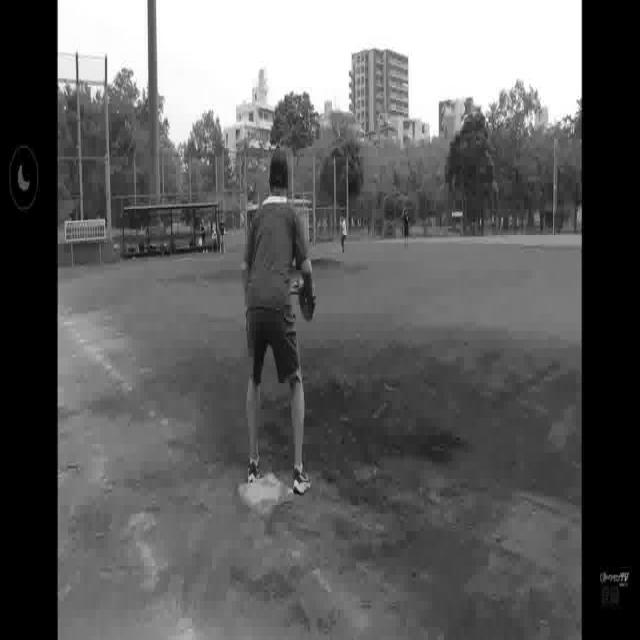base: (234, 472, 299, 517)
baseball_glove: (290, 267, 318, 325)
shoe: (289, 460, 316, 507), (247, 454, 262, 478)
